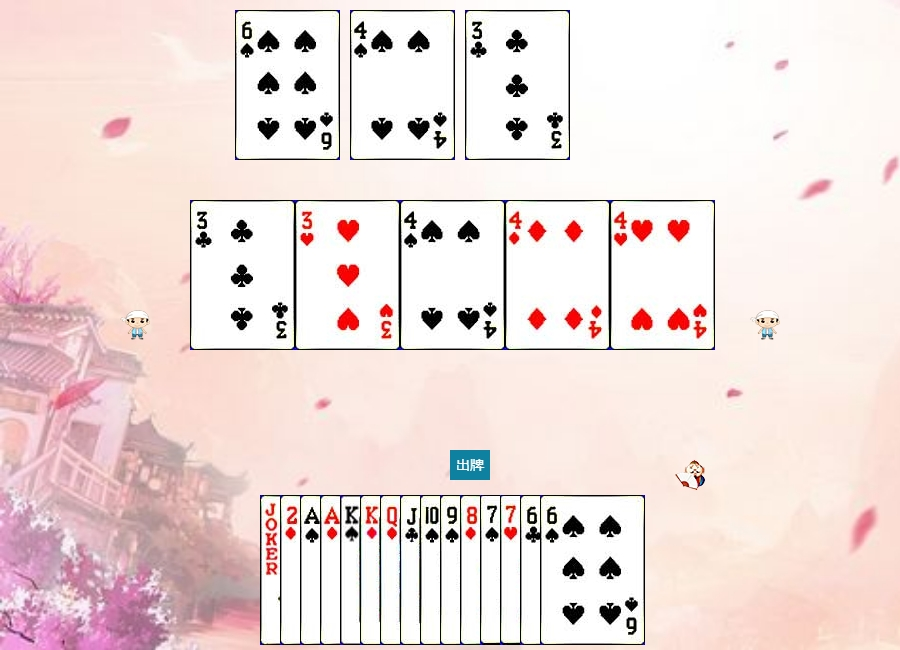10~4: (420, 495, 525, 645)
11~2: (400, 495, 505, 645)
12~1: (380, 495, 485, 645)
13~1: (360, 495, 465, 645)
13~4: (340, 495, 445, 645)
14~1: (320, 495, 425, 645)
14~4: (300, 495, 405, 645)
15~1: (280, 495, 385, 645)
18~4: (260, 495, 365, 645)
3~2: (465, 10, 570, 160), (190, 200, 295, 350)
3~3: (295, 200, 400, 350)
4~1: (505, 200, 610, 350)
4~3: (610, 200, 715, 350)
4~4: (350, 10, 455, 160), (400, 200, 505, 350)
6~2: (520, 495, 625, 645)
6~4: (235, 10, 340, 160), (540, 495, 645, 645)
7~3: (500, 495, 605, 645)
7~4: (480, 495, 585, 645)
8~1: (460, 495, 565, 645)
9~4: (440, 495, 545, 645)
